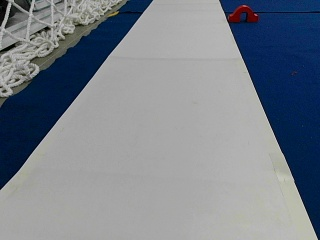bridge: (228, 5, 258, 21)
